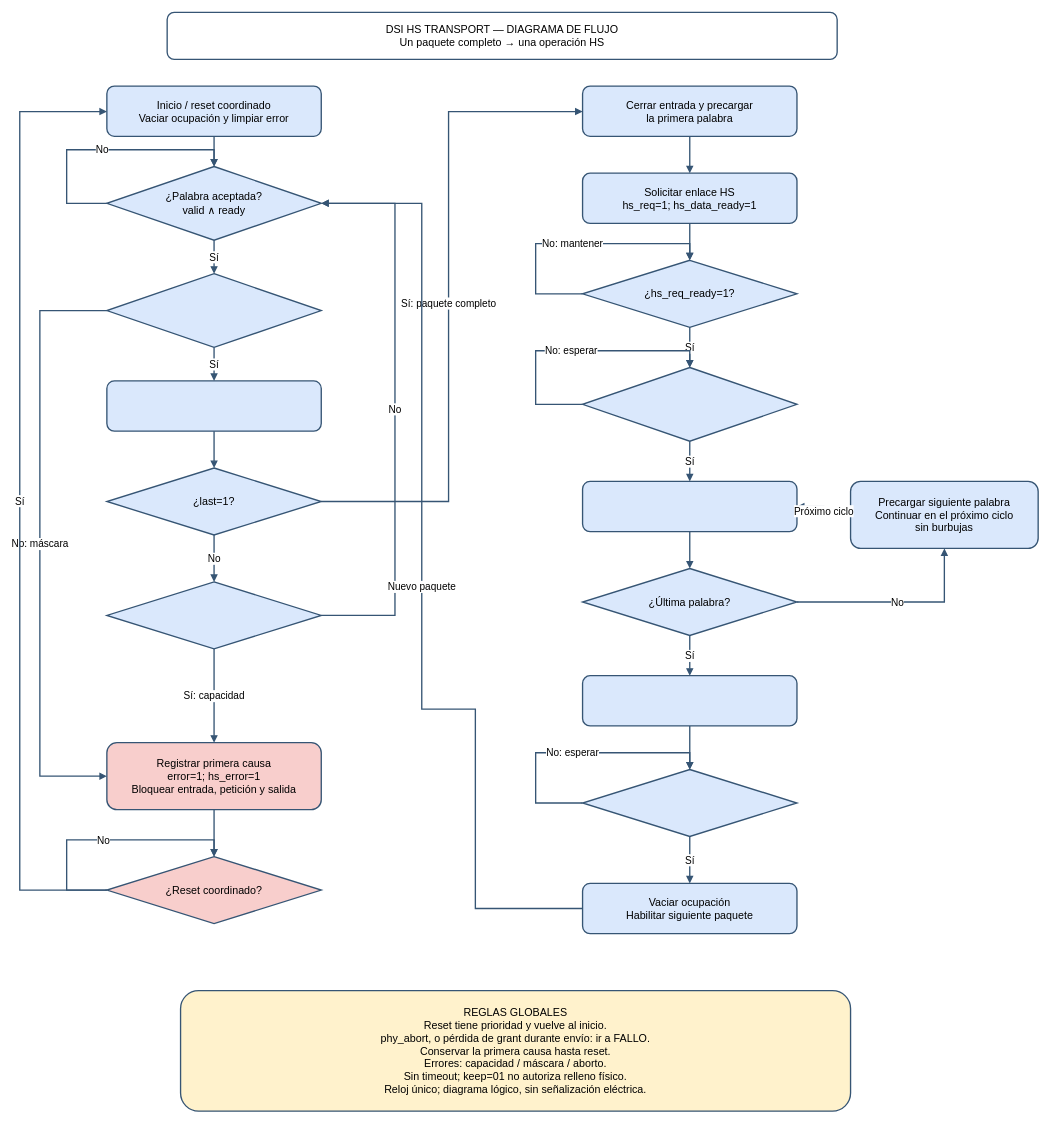
Some shapes in this 1051 by 1123 pixel diagram are drawn without their labels. The centre of each missing label's shape, as x and y in pixels:
Entregar palabra precargada valid=1; consumir en posedge: the point at 689,506
Guardar datos y máscara Incrementar ocupación: the point at 214,405
Retirar hs_req ¿hs_grant=1?: the point at 689,404
Retirar valid y data_ready Emitir hs_done durante un ciclo: the point at 689,700
¿hs_complete=1?: the point at 689,802
¿keep=11, o keep=01 con last=1?: the point at 214,310
¿Se agotó la capacidad?: the point at 214,615
